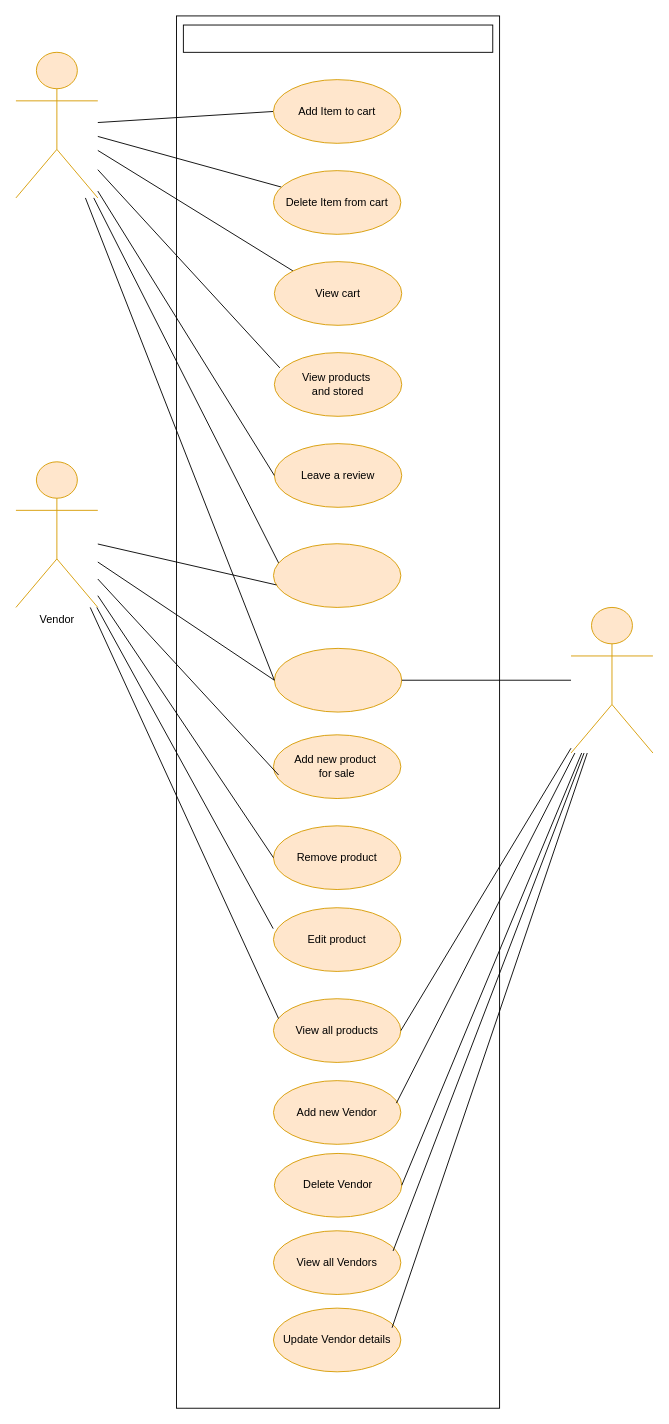
Some shapes in this 669 by 1424 pixel diagram are drawn without their labels. Here are the shapes that lost their labels. From the top down, the centre of each, then its label:
At (337,38): "Ecommerce Application".
At (56,124): "Buyer".
At (337,575): "Edit user details".
At (337,679): "Log in/out".
At (611,680): "Admin".
